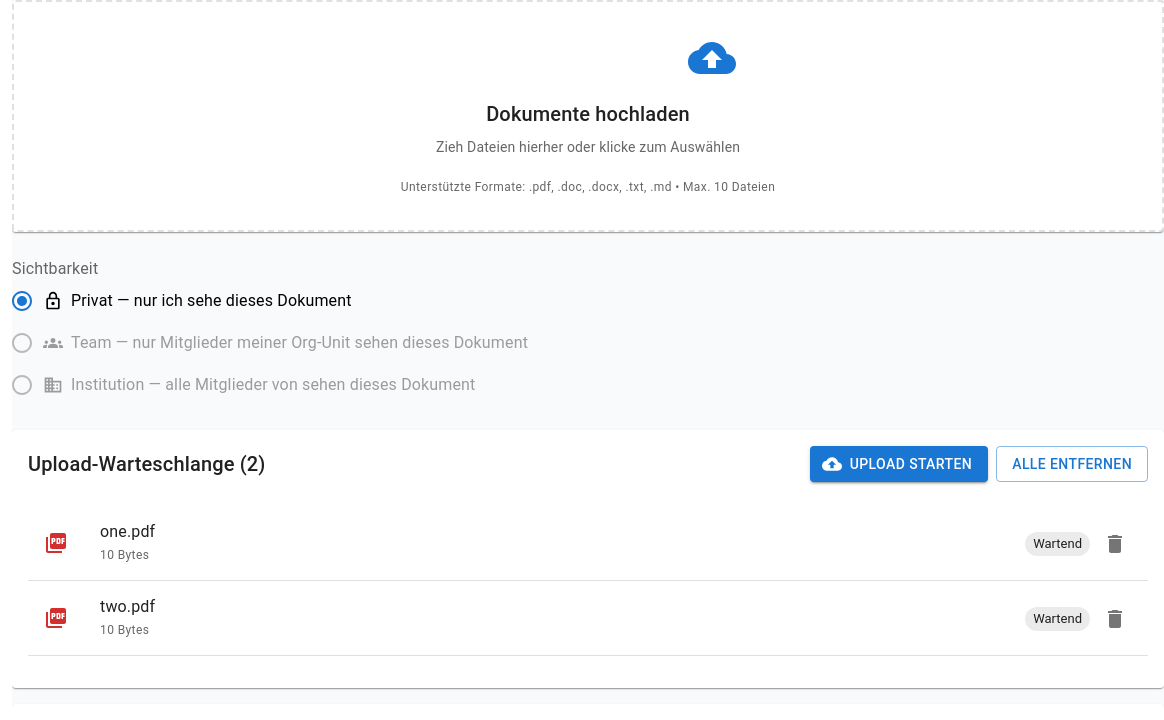
DocumentUpload › Upload flow › uploads several files one after another
Click the button "Upload starten". click: coordinates (899, 464)
box: [810,446,988,482]
(page scrolled)
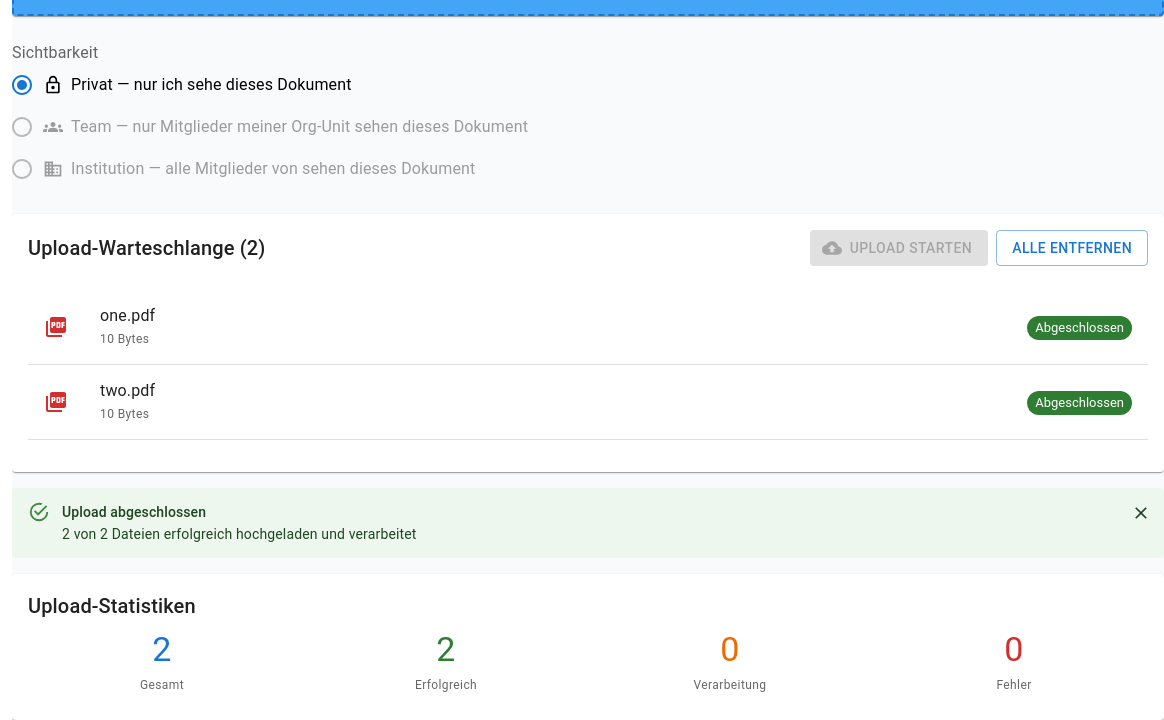
Expected: the heading "Upload abgeschlossen" is shown, [62,504,206,520]
Expected: the text "2 von 2 Dateien erfolgreich hochgeladen und verarbeitet" is shown, [62,524,417,544]
